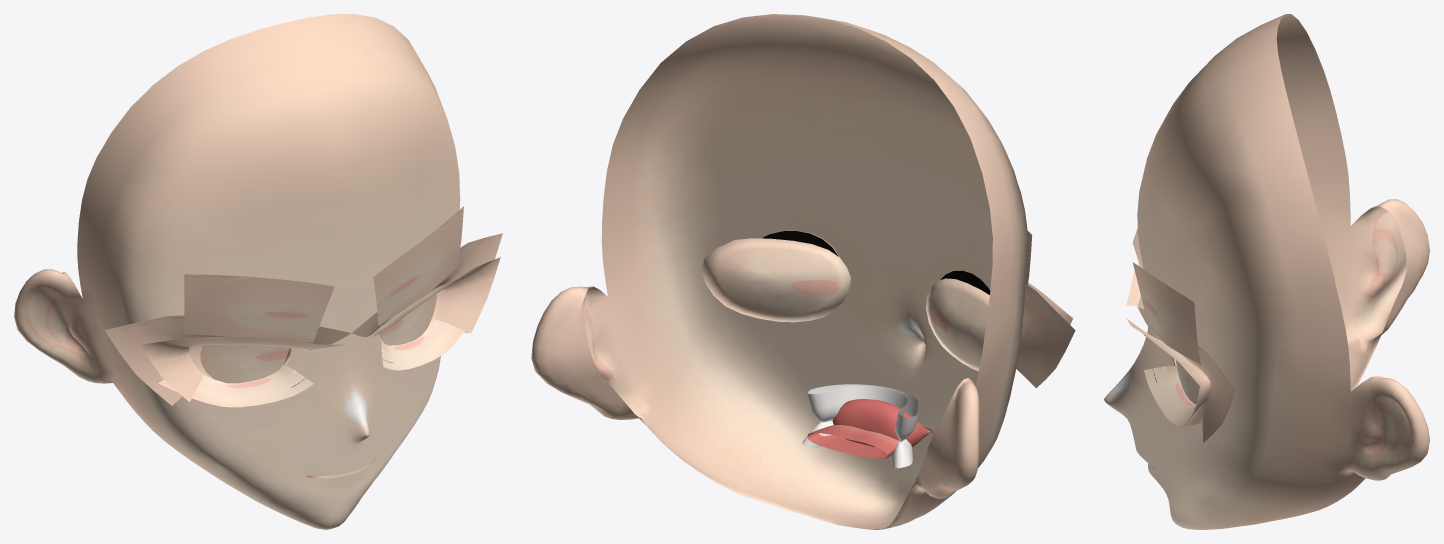
File: ship_kun.glb
3 views of the same model, side by side, from view 1: azimuth 30°, elevation 25°; view 2: azimuth 150°, elevation 25°; view 3: azimuth 270°, elevation 25° (orthographic). The views are drawn at different scales.
Visible parts, largest first — view 1: Face; view 2: Face; view 3: Face.
Part boxes in pixels (x1,y1,x2,y2): Face: [14, 14, 502, 529]; Face: [531, 14, 1075, 529]; Face: [1104, 14, 1429, 529].
Bounding box in the file's own units: 0.2086 × 0.2365 × 0.1435.
Materials: 3 (3 with a texture image).
